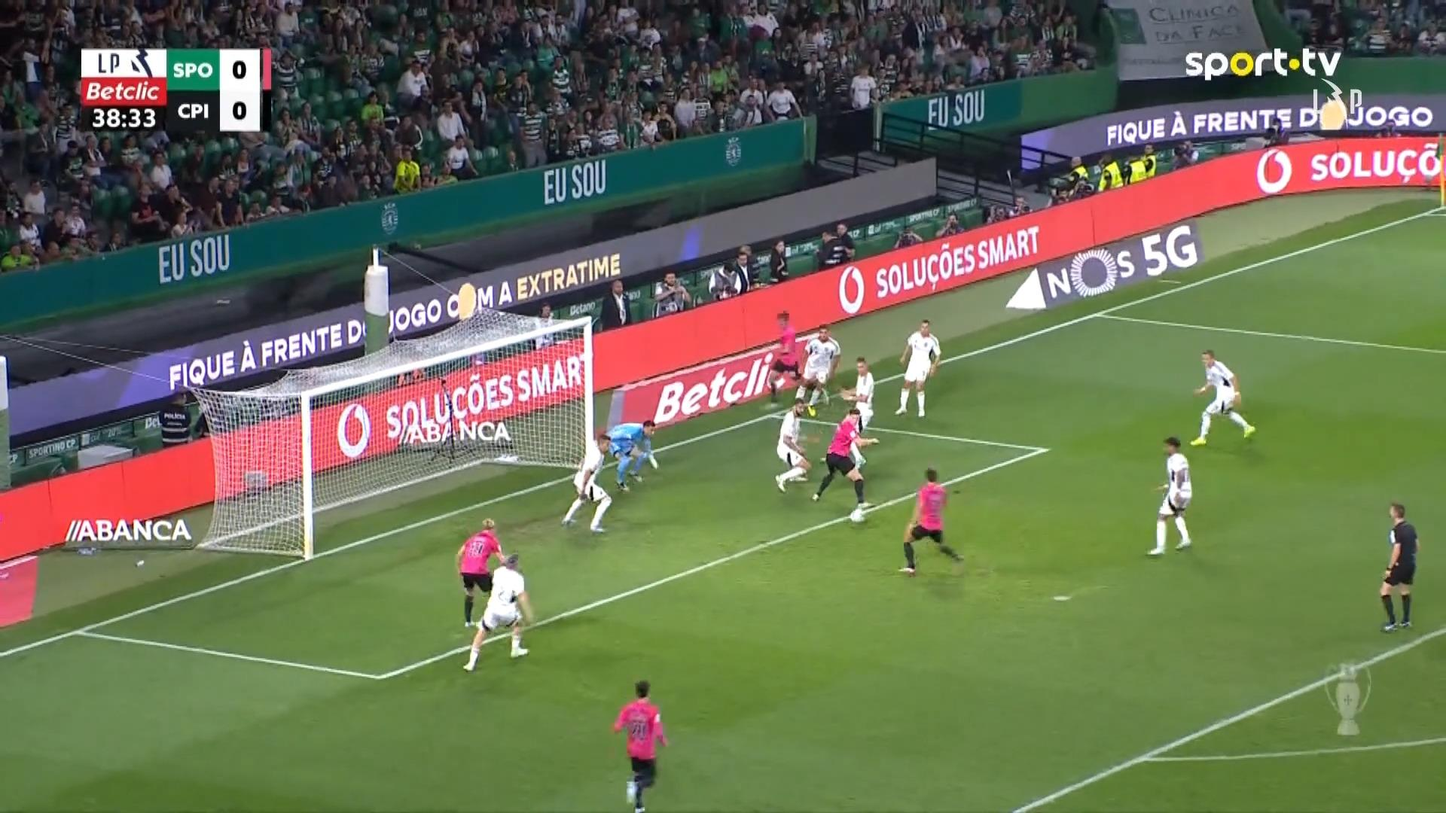ball: (850, 509, 865, 522)
goalkeeper: (603, 419, 658, 492)
player: (462, 553, 533, 671), (810, 407, 880, 522), (612, 679, 668, 811), (897, 467, 964, 575), (1189, 349, 1255, 446), (455, 517, 505, 628), (1146, 436, 1192, 555), (560, 432, 613, 533), (893, 318, 941, 418), (795, 323, 840, 416), (838, 355, 876, 465), (773, 398, 813, 492), (763, 309, 802, 403), (763, 351, 823, 403)
referee: (1378, 502, 1419, 632)
